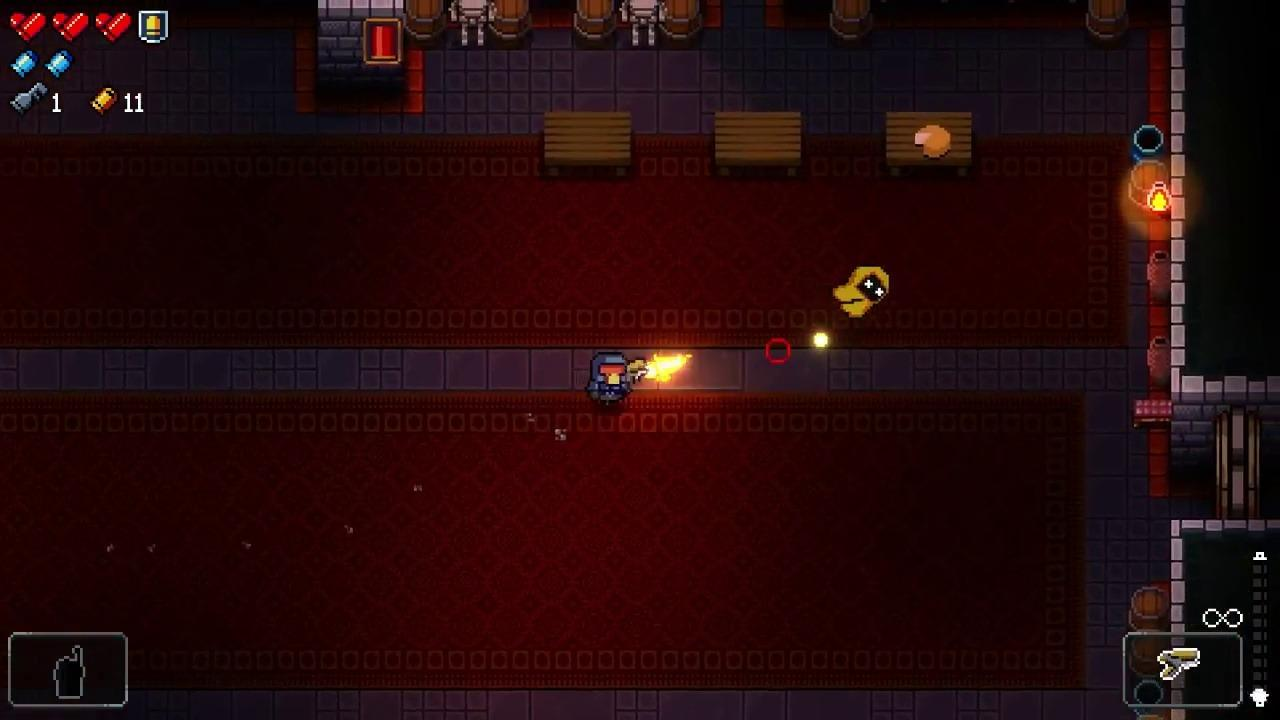apprentice_gunjurer: (833, 266, 890, 318)
locked_door: (1218, 406, 1261, 520)
player: (591, 351, 630, 405)
table: (886, 112, 971, 177), (715, 111, 801, 175), (546, 111, 630, 176)
